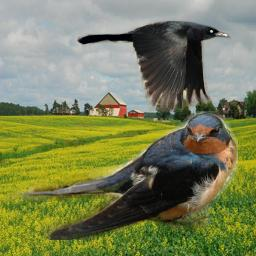Crow: (77, 19, 232, 112)
Swallow: (7, 111, 238, 240)
